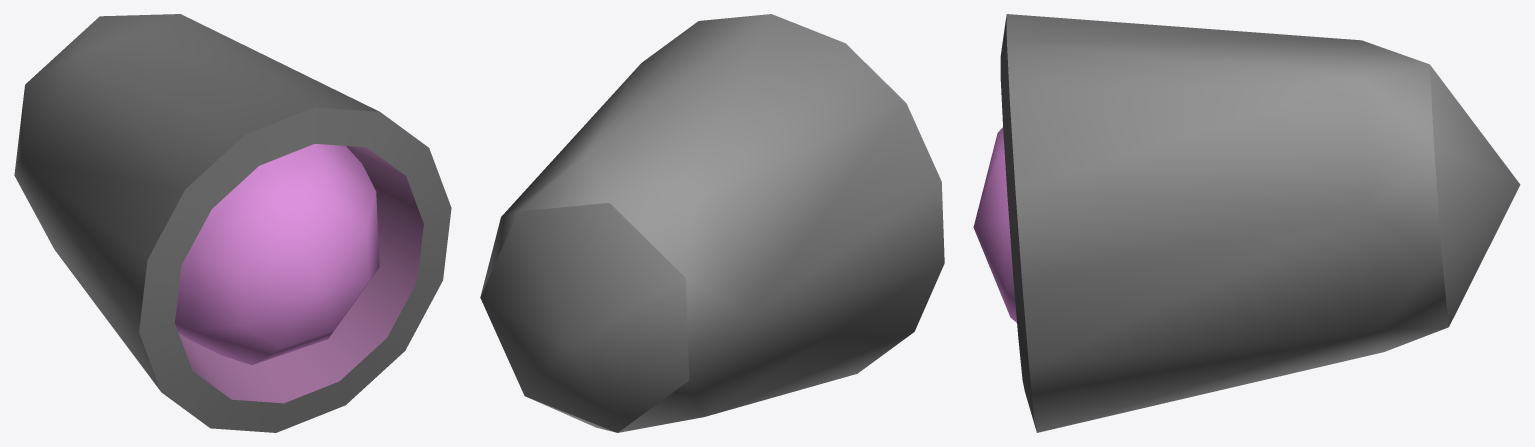
Rendered from DJStageLightPink_10.glb.
3 views of the same model, side by side, from view 1: azimuth 30°, elevation 25°; view 2: azimuth 150°, elevation 25°; view 3: azimuth 270°, elevation 25° (orthographic). The views are drawn at different scales.
Parts seen in each view (by area): view 1: DJStageLightPink; view 2: DJStageLightPink; view 3: DJStageLightPink.
Part boxes in pixels (<box>): DJStageLightPink: <box>14,14,451,432</box>; DJStageLightPink: <box>480,14,944,432</box>; DJStageLightPink: <box>973,14,1520,432</box>.
Size of the model in its own units: 0.2405 by 0.2416 by 0.3158.
